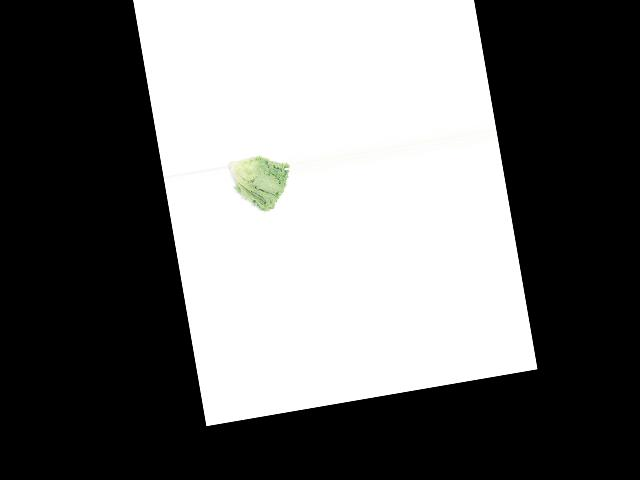lettuce: (225, 146, 296, 221)
